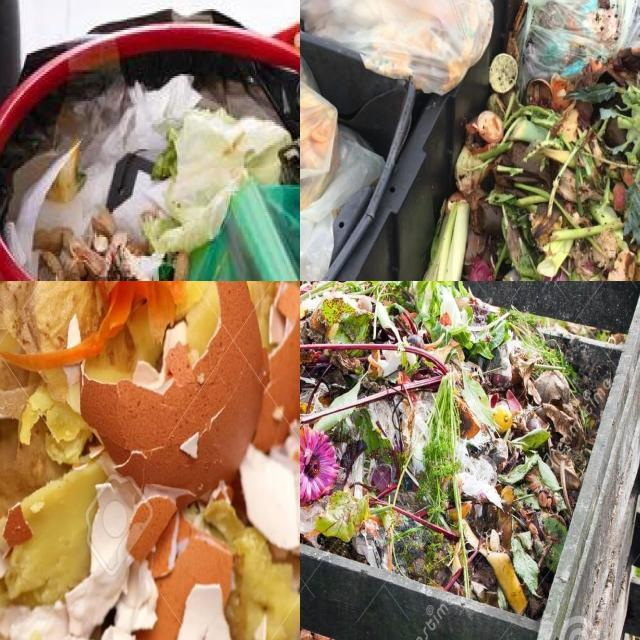Garbage: (300, 281, 629, 617), (0, 281, 300, 640), (2, 43, 300, 281), (422, 0, 640, 281)
Plastic_Bag: (300, 0, 493, 93), (300, 129, 380, 281), (515, 0, 640, 85)
contaminated_waste: (187, 170, 300, 281)
